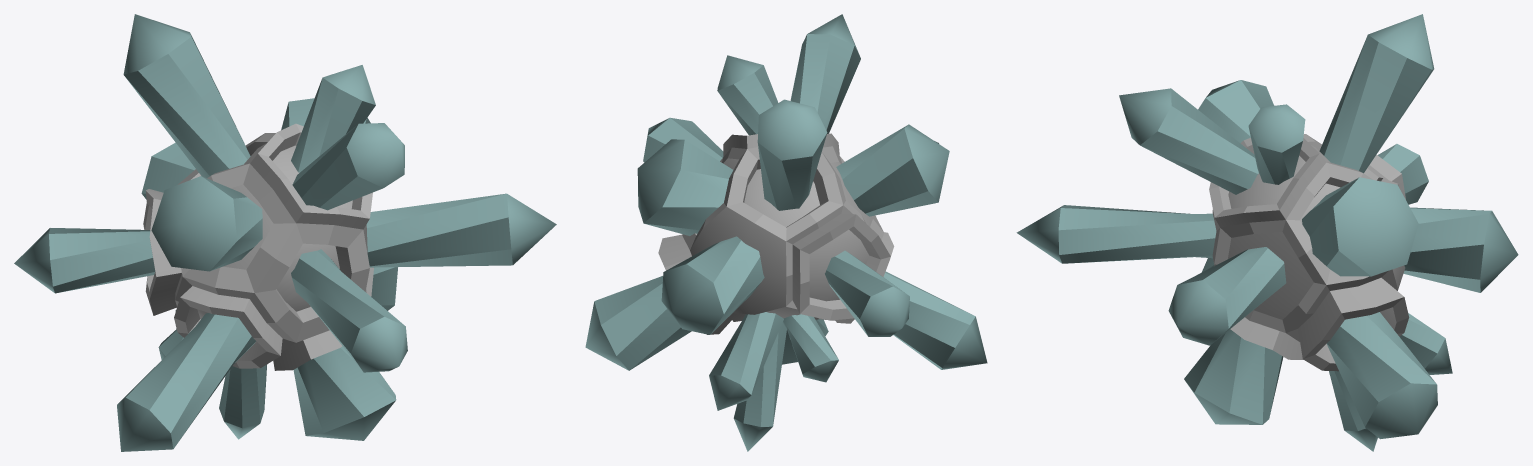
The model's file is GBE_AsteroidCluster_02_proxy.fbx.
The picture shows the model from 3 angles, left to right: view 1: azimuth 30°, elevation 25°; view 2: azimuth 150°, elevation 25°; view 3: azimuth 270°, elevation 25°; orthographic projection. The views are drawn at different scales.
Visible parts, largest first — view 1: GBE_Crystals_proxy, GBE_AsteroidLarge_proxy6; view 2: GBE_Crystals_proxy, GBE_AsteroidLarge_proxy6; view 3: GBE_Crystals_proxy, GBE_AsteroidLarge_proxy6.
Part boxes in pixels (left/top/right/bottom): GBE_Crystals_proxy: left=14, top=14, right=556, bottom=451; GBE_AsteroidLarge_proxy6: left=143, top=123, right=373, bottom=370; GBE_Crystals_proxy: left=585, top=14, right=987, bottom=451; GBE_AsteroidLarge_proxy6: left=658, top=133, right=894, bottom=334; GBE_Crystals_proxy: left=1016, top=14, right=1518, bottom=451; GBE_AsteroidLarge_proxy6: left=1209, top=134, right=1409, bottom=371.
Bounding box in the file's own units: 1359 × 1332 × 1506.
